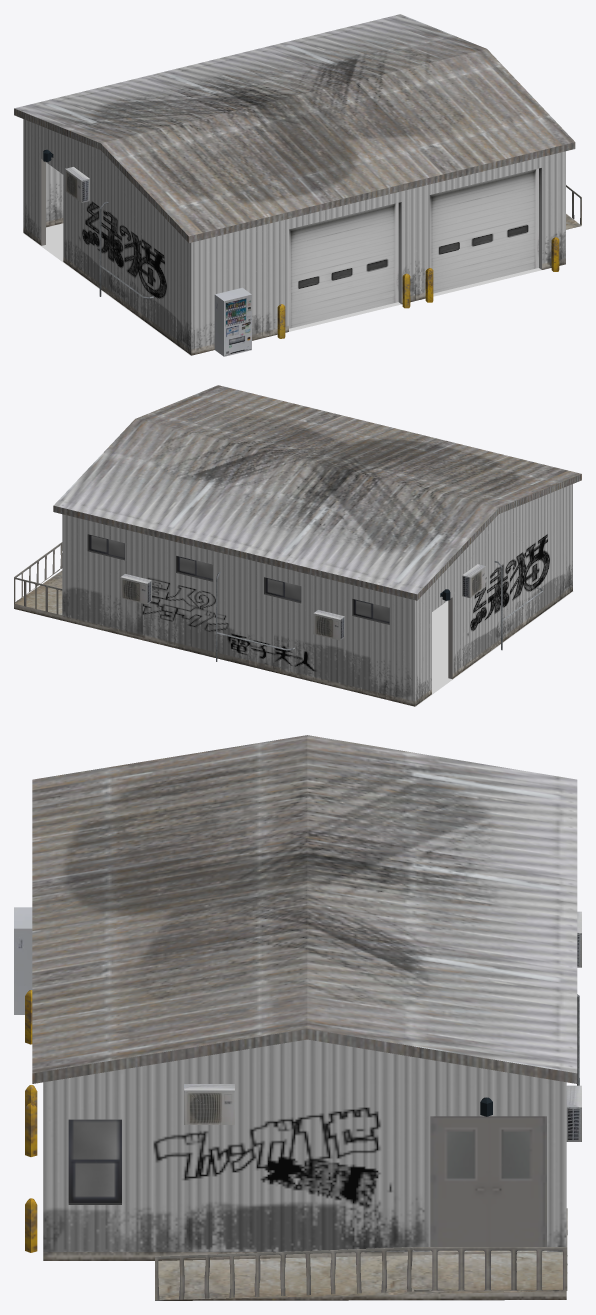
The model's file is Edificio 3.fbx.
3 views of the same model, one above another, from view 1: azimuth 30°, elevation 25°; view 2: azimuth 150°, elevation 25°; view 3: azimuth 270°, elevation 25° (orthographic). The views are drawn at different scales.
Visible parts, largest first — view 1: PSX Warehouse, Props, Plane; view 2: PSX Warehouse, Props, Plane; view 3: PSX Warehouse, Props.
Part boxes in pixels (x1,y1,x2,y2): PSX Warehouse: [14, 14, 581, 355]; Props: [65, 167, 251, 356]; Plane: [23, 223, 541, 355]; PSX Warehouse: [14, 385, 581, 706]; Props: [120, 561, 542, 661]; Plane: [415, 591, 573, 706]; PSX Warehouse: [25, 735, 577, 1300]; Props: [14, 907, 581, 1141].
Bounding box in the file's own units: 800 × 268 × 581.
